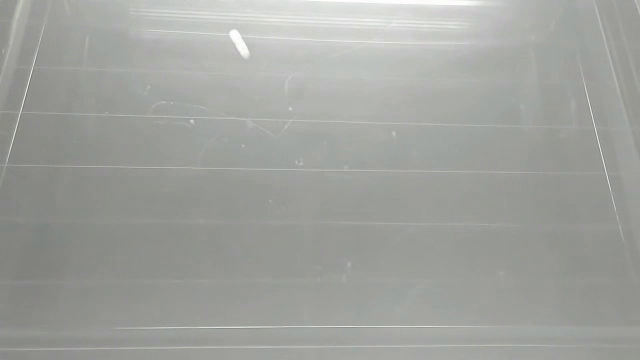alpha: (226, 26, 255, 61)
